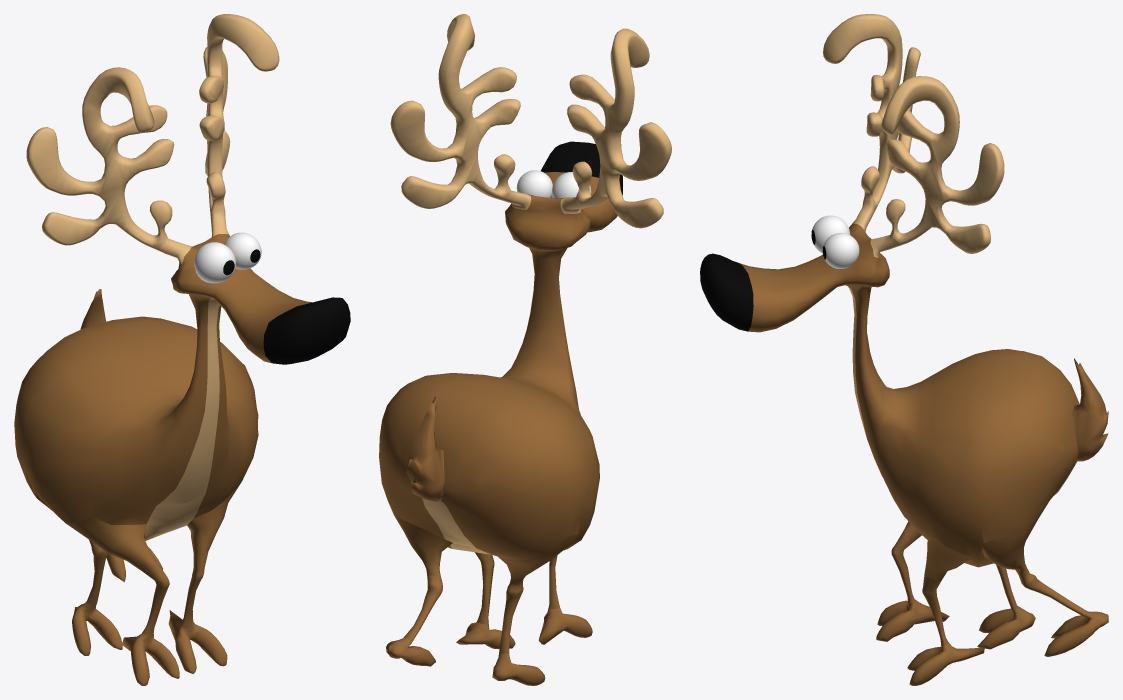
File: fawn.obj
The picture shows the model from 3 angles, left to right: view 1: azimuth 30°, elevation 25°; view 2: azimuth 150°, elevation 25°; view 3: azimuth 270°, elevation 25°; orthographic projection. The views are drawn at different scales.
Parts seen in each view (by area): view 1: deer FBXASC04801xx66, FBXASC04801xx66 Sphere14, FBXASC04801xx66 Sphere15; view 2: deer FBXASC04801xx66, FBXASC04801xx66 Sphere15, FBXASC04801xx66 Sphere14; view 3: deer FBXASC04801xx66, FBXASC04801xx66 Sphere15, FBXASC04801xx66 Sphere14.
Part boxes in pixels (left/top/right/bottom): deer FBXASC04801xx66: left=14, top=14, right=350, bottom=685; FBXASC04801xx66 Sphere14: left=194, top=242, right=235, bottom=283; FBXASC04801xx66 Sphere15: left=224, top=232, right=261, bottom=269; deer FBXASC04801xx66: left=379, top=14, right=671, bottom=685; FBXASC04801xx66 Sphere15: left=516, top=170, right=552, bottom=197; FBXASC04801xx66 Sphere14: left=552, top=172, right=591, bottom=198; deer FBXASC04801xx66: left=700, top=14, right=1108, bottom=685; FBXASC04801xx66 Sphere15: left=822, top=233, right=859, bottom=268; FBXASC04801xx66 Sphere14: left=811, top=215, right=850, bottom=253.
Size of the model in its own units: 3.8 by 8.96 by 5.4.
